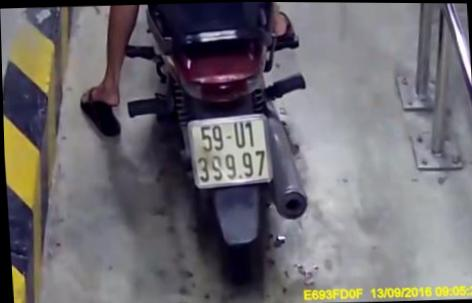LP: (184, 111, 275, 189)
